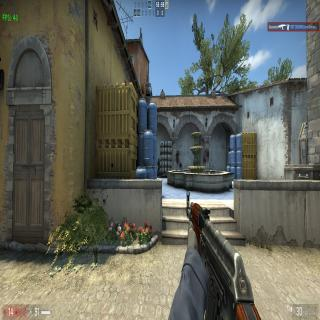CT-Body: (157, 158, 160, 177)
CT-Head: (158, 158, 159, 162)
